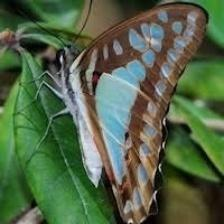butterfly: (46, 2, 209, 224)
